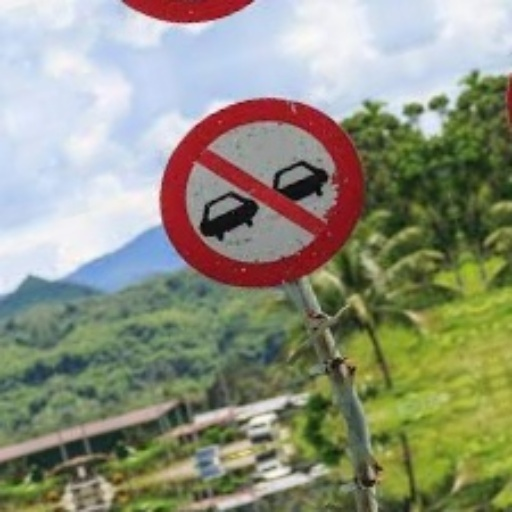No overtake: (145, 83, 397, 336)
